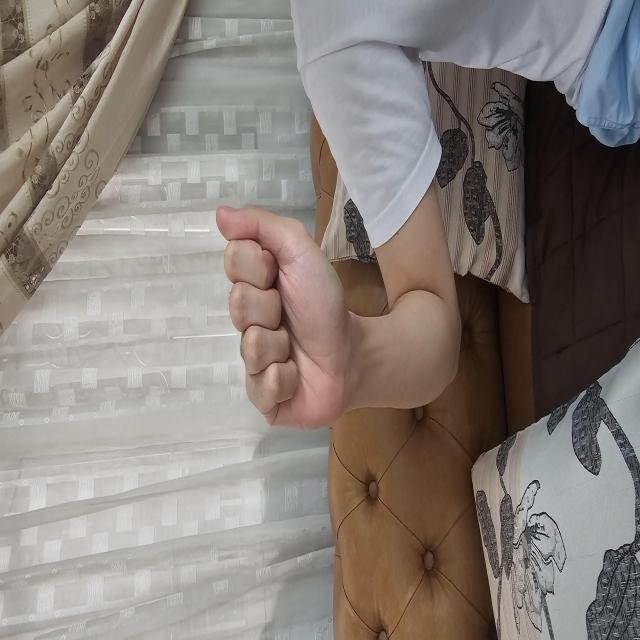A: (209, 214, 438, 348)
